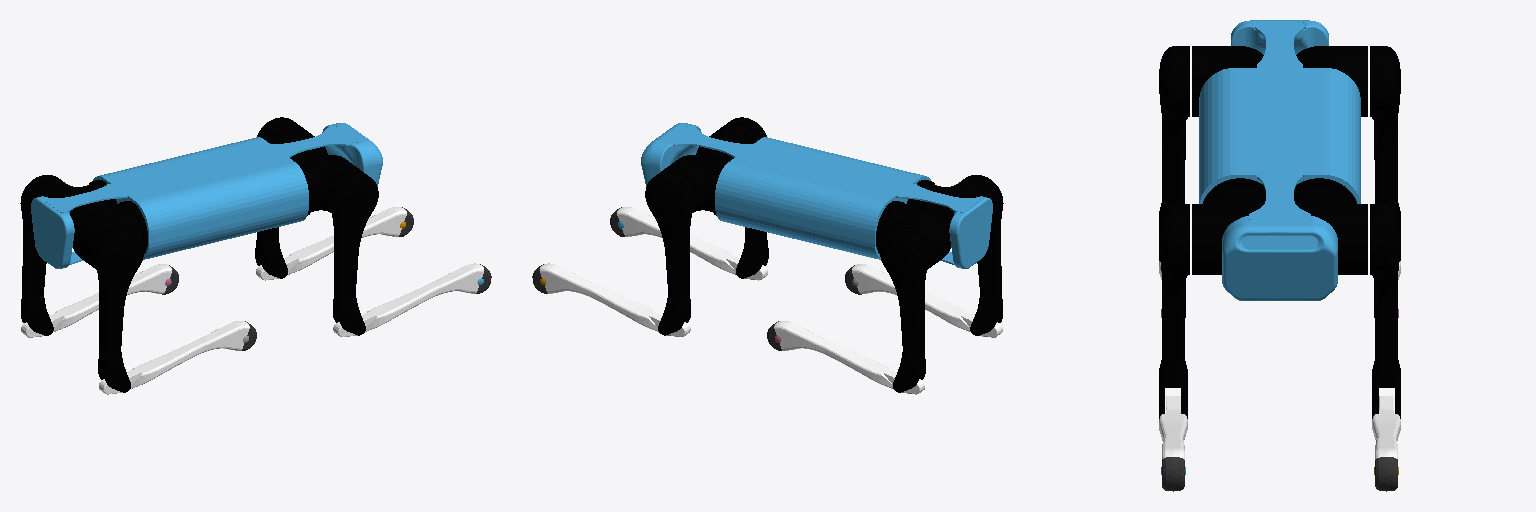
robot.urdf — aliengo:
<?xml version="1.0" ?>
<!-- =================================================================================== -->
<!-- |    This document was autogenerated by xacro from robot.xacro                    | -->
<!-- |    EDITING THIS FILE BY HAND IS NOT RECOMMENDED                                 | -->
<!-- =================================================================================== -->
<robot name="aliengo">
  <material name="black">
    <color rgba="0.0 0.0 0.0 1.0"/>
  </material>
  <material name="blue">
    <color rgba="0.0 0.0 0.8 1.0"/>
  </material>
  <material name="green">
    <color rgba="0.0 0.8 0.0 1.0"/>
  </material>
  <material name="grey">
    <color rgba="0.2 0.2 0.2 1.0"/>
  </material>
  <material name="silver">
    <color rgba="0.9137254901960784 0.9137254901960784 0.8470588235294118 1.0"/>
  </material>
  <material name="orange">
    <color rgba="1.0 0.4235294117647059 0.0392156862745098 1.0"/>
  </material>
  <material name="brown">
    <color rgba="0.8705882352941177 0.8117647058823529 0.7647058823529411 1.0"/>
  </material>
  <material name="red">
    <color rgba="0.8 0.0 0.0 1.0"/>
  </material>
  <material name="white">
    <color rgba="1.0 1.0 1.0 1.0"/>
  </material>

  <link name="base">
    <visual>
      <origin rpy="0 0 0" xyz="0 0 0"/>
      <geometry>
        <box size="0.001 0.001 0.001"/>
      </geometry>
    </visual>
  </link>
  <joint name="floating_base" type="fixed">
    <origin rpy="0 0 0" xyz="0 0 0"/>
    <parent link="base"/>
    <child link="trunk"/>
  </joint>
  <link name="trunk">
    <visual>
      <origin rpy="0 0 0" xyz="0 0 0"/>
      <geometry>
        <mesh filename="assets/trunk.dae" scale="1 1 1"/>
      </geometry>
    </visual>
    <collision>
      <origin rpy="0 0 0" xyz="0 0 0"/>
      <geometry>
        <box size="0.647 0.15 0.112"/>
      </geometry>
    </collision>
    <inertial>
      <origin rpy="0 0 0" xyz="0.008811 0.003839 0.000273"/>
      <mass value="11.644"/>
      <inertia ixx="0.051944892" ixy="0.001703617" ixz="0.000235941" iyy="0.24693924" iyz="0.000119783" izz="0.270948307"/>
    </inertial>
  </link>
  <joint name="imu_joint" type="fixed">
    <parent link="trunk"/>
    <child link="imu_link"/>
    <origin rpy="0 0 0" xyz="0 0 0"/>
  </joint>
  <link name="imu_link">
    <inertial>
      <mass value="0.001"/>
      <origin rpy="0 0 0" xyz="0 0 0"/>
      <inertia ixx="0.0001" ixy="0" ixz="0" iyy="0.000001" iyz="0" izz="0.0001"/>
    </inertial>
    <visual>
      <origin rpy="0 0 0" xyz="0 0 0"/>
      <geometry>
        <box size="0.001 0.001 0.001"/>
      </geometry>
      <material name="red"/>
    </visual>
    <collision>
      <origin rpy="0 0 0" xyz="0 0 0"/>
      <geometry>
        <box size=".001 .001 .001"/>
      </geometry>
    </collision>
  </link>
  <joint name="FR_hip_joint" type="revolute">
    <origin rpy="0 0 0" xyz="0.2407 -0.051 0"/>
    <parent link="trunk"/>
    <child link="FR_hip"/>
    <axis xyz="1 0 0"/>
    <limit effort="35.278" lower="-1.2217304763960306" upper="1.2217304763960306" velocity="20"/>
  </joint>
  <joint name="FR_hip_rotor_joint" type="fixed">
    <origin rpy="0 0 0" xyz="0.139985 -0.051 0"/>
    <parent link="trunk"/>
    <child link="FR_hip_rotor"/>
  </joint>
  <link name="FR_hip">
    <visual>
      <origin rpy="3.141592653589793 0 0" xyz="0 0 0"/>
      <geometry>
        <mesh filename="assets/hip.dae" scale="1 1 1"/>
      </geometry>
    </visual>
    <inertial>
      <origin rpy="0 0 0" xyz="-0.022191 -0.015144 -1.5e-05"/>
      <mass value="1.993"/>
      <inertia ixx="0.002446735" ixy="0.00059805" ixz="1.945e-06" iyy="0.003925876" iyz="-1.284e-06" izz="0.004148145"/>
    </inertial>
  </link>
  <link name="FR_hip_rotor">
    <inertial>
      <origin rpy="0 0 0" xyz="0.0 0.0 0.0"/>
      <mass value="0.146"/>
      <inertia ixx="0.000138702" ixy="0.0" ixz="0.0" iyy="8.3352e-05" iyz="0.0" izz="8.3352e-05"/>
    </inertial>
  </link>
  <joint name="FR_thigh_joint" type="continuous">
    <origin rpy="0 0 0" xyz="0 -0.0868 0"/>
    <parent link="FR_hip"/>
    <child link="FR_thigh"/>
    <axis xyz="0 1 0"/>
    <limit effort="35.278" velocity="20"/>
  </joint>
  <joint name="FR_thigh_rotor_joint" type="fixed">
    <origin rpy="0 0 0" xyz="0.0 -0.0298 0"/>
    <parent link="FR_hip"/>
    <child link="FR_thigh_rotor"/>
  </joint>
  <link name="FR_thigh">
    <visual>
      <origin rpy="0 0 0" xyz="0 0 0"/>
      <geometry>
        <mesh filename="assets/thigh_mirror.dae" scale="1 1 1"/>
      </geometry>
    </visual>
    <collision>
      <origin rpy="0 1.5707963267948966 0" xyz="0 0 -0.125"/>
      <geometry>
        <box size="0.15 0.0374 0.043"/>
      </geometry>
    </collision>
    <inertial>
      <origin rpy="0 0 0" xyz="-0.005607 0.003877 -0.048199"/>
      <mass value="0.639"/>
      <inertia ixx="0.004173855" ixy="-1.0284e-05" ixz="-0.000318874" iyy="0.004343802" iyz="-0.000109233" izz="0.000340136"/>
    </inertial>
  </link>
  <link name="FR_thigh_rotor">
    <inertial>
      <origin rpy="0 0 0" xyz="0.0 0.0 0.0"/>
      <mass value="0.146"/>
      <inertia ixx="8.3352e-05" ixy="0.0" ixz="0.0" iyy="0.000138702" iyz="0.0" izz="8.3352e-05"/>
    </inertial>
  </link>
  <joint name="FR_calf_joint" type="revolute">
    <origin rpy="0 0 0" xyz="0 0 -0.25"/>
    <parent link="FR_thigh"/>
    <child link="FR_calf"/>
    <axis xyz="0 1 0"/>
    <limit effort="44.4" lower="-2.775073510670984" upper="-0.6457718232379019" velocity="15.89"/>
  </joint>
  <joint name="FR_calf_rotor_joint" type="fixed">
    <origin rpy="0 0 0" xyz="0.0 0.0997 0"/>
    <parent link="FR_thigh"/>
    <child link="FR_calf_rotor"/>
  </joint>
  <link name="FR_calf">
    <visual>
      <origin rpy="0 0 0" xyz="0 0 0"/>
      <geometry>
        <mesh filename="assets/calf.dae" scale="1 1 1"/>
      </geometry>
    </visual>
    <collision>
      <origin rpy="0 1.5707963267948966 0" xyz="0 0 -0.125"/>
      <geometry>
        <box size="0.15 0.0208 0.016"/>
      </geometry>
    </collision>
    <inertial>
      <origin rpy="0 0 0" xyz="0.002781 6.3e-05 -0.142518"/>
      <mass value="0.207"/>
      <inertia ixx="0.002129279" ixy="3.9e-08" ixz="5.757e-06" iyy="0.002141463" iyz="-5.16e-07" izz="3.7583e-05"/>
    </inertial>
  </link>
  <link name="FR_calf_rotor">
    <inertial>
      <origin rpy="0 0 0" xyz="0.0 0.0 0.0"/>
      <mass value="0.132"/>
      <inertia ixx="0.000145463" ixy="0.0" ixz="0.0" iyy="0.000133031" iyz="0.0" izz="0.000145463"/>
    </inertial>
  </link>
  <joint name="FR_foot_fixed" type="fixed">
    <origin rpy="0 0 0" xyz="0 0 -0.25"/>
    <parent link="FR_calf"/>
    <child link="FR_foot"/>
  </joint>
  <link name="FR_foot">
    <visual>
      <origin rpy="0 0 0" xyz="0 0 0"/>
      <geometry>
        <sphere radius="0.0165"/>
      </geometry>
    </visual>
    <collision>
      <origin rpy="0 0 0" xyz="0 0 0"/>
      <geometry>
        <sphere radius="0.0265"/>
      </geometry>
    </collision>
    <inertial>
      <mass value="0.06"/>
      <inertia ixx="1.6853999999999998e-05" ixy="0.0" ixz="0.0" iyy="1.6853999999999998e-05" iyz="0.0" izz="1.6853999999999998e-05"/>
    </inertial>
  </link>
  <joint name="FL_hip_joint" type="revolute">
    <origin rpy="0 0 0" xyz="0.2407 0.051 0"/>
    <parent link="trunk"/>
    <child link="FL_hip"/>
    <axis xyz="1 0 0"/>
    <limit effort="35.278" lower="-1.2217304763960306" upper="1.2217304763960306" velocity="20"/>
  </joint>
  <joint name="FL_hip_rotor_joint" type="fixed">
    <origin rpy="0 0 0" xyz="0.139985 0.051 0"/>
    <parent link="trunk"/>
    <child link="FL_hip_rotor"/>
  </joint>
  <link name="FL_hip">
    <visual>
      <origin rpy="0 0 0" xyz="0 0 0"/>
      <geometry>
        <mesh filename="assets/hip.dae" scale="1 1 1"/>
      </geometry>
    </visual>
    <inertial>
      <origin rpy="0 0 0" xyz="-0.022191 0.015144 -1.5e-05"/>
      <mass value="1.993"/>
      <inertia ixx="0.002446735" ixy="-0.00059805" ixz="1.945e-06" iyy="0.003925876" iyz="1.284e-06" izz="0.004148145"/>
    </inertial>
  </link>
  <link name="FL_hip_rotor">
    <inertial>
      <origin rpy="0 0 0" xyz="0.0 0.0 0.0"/>
      <mass value="0.146"/>
      <inertia ixx="0.000138702" ixy="0.0" ixz="0.0" iyy="8.3352e-05" iyz="0.0" izz="8.3352e-05"/>
    </inertial>
  </link>
  <joint name="FL_thigh_joint" type="continuous">
    <origin rpy="0 0 0" xyz="0 0.0868 0"/>
    <parent link="FL_hip"/>
    <child link="FL_thigh"/>
    <axis xyz="0 1 0"/>
    <limit effort="35.278" velocity="20"/>
  </joint>
  <joint name="FL_thigh_rotor_joint" type="fixed">
    <origin rpy="0 0 0" xyz="0.0 0.0298 0"/>
    <parent link="FL_hip"/>
    <child link="FL_thigh_rotor"/>
  </joint>
  <link name="FL_thigh">
    <visual>
      <origin rpy="0 0 0" xyz="0 0 0"/>
      <geometry>
        <mesh filename="assets/thigh.dae" scale="1 1 1"/>
      </geometry>
    </visual>
    <collision>
      <origin rpy="0 1.5707963267948966 0" xyz="0 0 -0.125"/>
      <geometry>
        <box size="0.15 0.0374 0.043"/>
      </geometry>
    </collision>
    <inertial>
      <origin rpy="0 0 0" xyz="-0.005607 -0.003877 -0.048199"/>
      <mass value="0.639"/>
      <inertia ixx="0.004173855" ixy="1.0284e-05" ixz="-0.000318874" iyy="0.004343802" iyz="0.000109233" izz="0.000340136"/>
    </inertial>
  </link>
  <link name="FL_thigh_rotor">
    <inertial>
      <origin rpy="0 0 0" xyz="0.0 0.0 0.0"/>
      <mass value="0.146"/>
      <inertia ixx="8.3352e-05" ixy="0.0" ixz="0.0" iyy="0.000138702" iyz="0.0" izz="8.3352e-05"/>
    </inertial>
  </link>
  <joint name="FL_calf_joint" type="revolute">
    <origin rpy="0 0 0" xyz="0 0 -0.25"/>
    <parent link="FL_thigh"/>
    <child link="FL_calf"/>
    <axis xyz="0 1 0"/>
    <limit effort="44.4" lower="-2.775073510670984" upper="-0.6457718232379019" velocity="15.89"/>
  </joint>
  <joint name="FL_calf_rotor_joint" type="fixed">
    <origin rpy="0 0 0" xyz="0.0 -0.0997 0"/>
    <parent link="FL_thigh"/>
    <child link="FL_calf_rotor"/>
  </joint>
  <link name="FL_calf">
    <visual>
      <origin rpy="0 0 0" xyz="0 0 0"/>
      <geometry>
        <mesh filename="assets/calf.dae" scale="1 1 1"/>
      </geometry>
    </visual>
    <collision>
      <origin rpy="0 1.5707963267948966 0" xyz="0 0 -0.125"/>
      <geometry>
        <box size="0.15 0.0208 0.016"/>
      </geometry>
    </collision>
    <inertial>
      <origin rpy="0 0 0" xyz="0.002781 6.3e-05 -0.142518"/>
      <mass value="0.207"/>
      <inertia ixx="0.002129279" ixy="3.9e-08" ixz="5.757e-06" iyy="0.002141463" iyz="-5.16e-07" izz="3.7583e-05"/>
    </inertial>
  </link>
  <link name="FL_calf_rotor">
    <inertial>
      <origin rpy="0 0 0" xyz="0.0 0.0 0.0"/>
      <mass value="0.132"/>
      <inertia ixx="0.000145463" ixy="0.0" ixz="0.0" iyy="0.000133031" iyz="0.0" izz="0.000145463"/>
    </inertial>
  </link>
  <joint name="FL_foot_fixed" type="fixed">
    <origin rpy="0 0 0" xyz="0 0 -0.25"/>
    <parent link="FL_calf"/>
    <child link="FL_foot"/>
  </joint>
  <link name="FL_foot">
    <visual>
      <origin rpy="0 0 0" xyz="0 0 0"/>
      <geometry>
        <sphere radius="0.0165"/>
      </geometry>
    </visual>
    <collision>
      <origin rpy="0 0 0" xyz="0 0 0"/>
      <geometry>
        <sphere radius="0.0265"/>
      </geometry>
    </collision>
    <inertial>
      <mass value="0.06"/>
      <inertia ixx="1.6853999999999998e-05" ixy="0.0" ixz="0.0" iyy="1.6853999999999998e-05" iyz="0.0" izz="1.6853999999999998e-05"/>
    </inertial>
  </link>
  <joint name="RR_hip_joint" type="revolute">
    <origin rpy="0 0 0" xyz="-0.2407 -0.051 0"/>
    <parent link="trunk"/>
    <child link="RR_hip"/>
    <axis xyz="1 0 0"/>
    <limit effort="35.278" lower="-1.2217304763960306" upper="1.2217304763960306" velocity="20"/>
  </joint>
  <joint name="RR_hip_rotor_joint" type="fixed">
    <origin rpy="0 0 0" xyz="-0.139985 -0.051 0"/>
    <parent link="trunk"/>
    <child link="RR_hip_rotor"/>
  </joint>
  <link name="RR_hip">
    <visual>
      <origin rpy="3.141592653589793 3.141592653589793 0" xyz="0 0 0"/>
      <geometry>
        <mesh filename="assets/hip.dae" scale="1 1 1"/>
      </geometry>
    </visual>
    <inertial>
      <origin rpy="0 0 0" xyz="0.022191 -0.015144 -1.5e-05"/>
      <mass value="1.993"/>
      <inertia ixx="0.002446735" ixy="-0.00059805" ixz="-1.945e-06" iyy="0.003925876" iyz="-1.284e-06" izz="0.004148145"/>
    </inertial>
  </link>
  <link name="RR_hip_rotor">
    <inertial>
      <origin rpy="0 0 0" xyz="0.0 0.0 0.0"/>
      <mass value="0.146"/>
      <inertia ixx="0.000138702" ixy="0.0" ixz="0.0" iyy="8.3352e-05" iyz="0.0" izz="8.3352e-05"/>
    </inertial>
  </link>
  <joint name="RR_thigh_joint" type="continuous">
    <origin rpy="0 0 0" xyz="0 -0.0868 0"/>
    <parent link="RR_hip"/>
    <child link="RR_thigh"/>
    <axis xyz="0 1 0"/>
    <limit effort="35.278" velocity="20"/>
  </joint>
  <joint name="RR_thigh_rotor_joint" type="fixed">
    <origin rpy="0 0 0" xyz="0.0 -0.0298 0"/>
    <parent link="RR_hip"/>
    <child link="RR_thigh_rotor"/>
  </joint>
  <link name="RR_thigh">
    <visual>
      <origin rpy="0 0 0" xyz="0 0 0"/>
      <geometry>
        <mesh filename="assets/thigh_mirror.dae" scale="1 1 1"/>
      </geometry>
    </visual>
    <collision>
      <origin rpy="0 1.5707963267948966 0" xyz="0 0 -0.125"/>
      <geometry>
        <box size="0.25 0.0374 0.043"/>
      </geometry>
    </collision>
    <inertial>
      <origin rpy="0 0 0" xyz="-0.005607 0.003877 -0.048199"/>
      <mass value="0.639"/>
      <inertia ixx="0.004173855" ixy="-1.0284e-05" ixz="-0.000318874" iyy="0.004343802" iyz="-0.000109233" izz="0.000340136"/>
    </inertial>
  </link>
  <link name="RR_thigh_rotor">
    <inertial>
      <origin rpy="0 0 0" xyz="0.0 0.0 0.0"/>
      <mass value="0.146"/>
      <inertia ixx="8.3352e-05" ixy="0.0" ixz="0.0" iyy="0.000138702" iyz="0.0" izz="8.3352e-05"/>
    </inertial>
  </link>
  <joint name="RR_calf_joint" type="revolute">
    <origin rpy="0 0 0" xyz="0 0 -0.25"/>
    <parent link="RR_thigh"/>
    <child link="RR_calf"/>
    <axis xyz="0 1 0"/>
    <dynamics damping="0" friction="0"/>
    <limit effort="44.4" lower="-2.775073510670984" upper="-0.6457718232379019" velocity="15.89"/>
  </joint>
  <joint name="RR_calf_rotor_joint" type="fixed">
    <origin rpy="0 0 0" xyz="0.0 0.0997 0"/>
    <parent link="RR_thigh"/>
    <child link="RR_calf_rotor"/>
  </joint>
  <link name="RR_calf">
    <visual>
      <origin rpy="0 0 0" xyz="0 0 0"/>
      <geometry>
        <mesh filename="assets/calf.dae" scale="1 1 1"/>
      </geometry>
    </visual>
    <collision>
      <origin rpy="0 1.5707963267948966 0" xyz="0 0 -0.125"/>
      <geometry>
        <box size="0.15 0.0208 0.016"/>
      </geometry>
    </collision>
    <inertial>
      <origin rpy="0 0 0" xyz="0.002781 6.3e-05 -0.142518"/>
      <mass value="0.207"/>
      <inertia ixx="0.002129279" ixy="3.9e-08" ixz="5.757e-06" iyy="0.002141463" iyz="-5.16e-07" izz="3.7583e-05"/>
    </inertial>
  </link>
  <link name="RR_calf_rotor">
    <inertial>
      <origin rpy="0 0 0" xyz="0.0 0.0 0.0"/>
      <mass value="0.132"/>
      <inertia ixx="0.000145463" ixy="0.0" ixz="0.0" iyy="0.000133031" iyz="0.0" izz="0.000145463"/>
    </inertial>
  </link>
  <joint name="RR_foot_fixed" type="fixed">
    <origin rpy="0 0 0" xyz="0 0 -0.25"/>
    <parent link="RR_calf"/>
    <child link="RR_foot"/>
  </joint>
  <link name="RR_foot">
    <visual>
      <origin rpy="0 0 0" xyz="0 0 0"/>
      <geometry>
        <sphere radius="0.0165"/>
      </geometry>
    </visual>
    <collision>
      <origin rpy="0 0 0" xyz="0 0 0"/>
      <geometry>
        <sphere radius="0.0265"/>
      </geometry>
    </collision>
    <inertial>
      <mass value="0.06"/>
      <inertia ixx="1.6853999999999998e-05" ixy="0.0" ixz="0.0" iyy="1.6853999999999998e-05" iyz="0.0" izz="1.6853999999999998e-05"/>
    </inertial>
  </link>
  <joint name="RL_hip_joint" type="revolute">
    <origin rpy="0 0 0" xyz="-0.2407 0.051 0"/>
    <parent link="trunk"/>
    <child link="RL_hip"/>
    <axis xyz="1 0 0"/>
    <limit effort="35.278" lower="-1.2217304763960306" upper="1.2217304763960306" velocity="20"/>
  </joint>
  <joint name="RL_hip_rotor_joint" type="fixed">
    <origin rpy="0 0 0" xyz="-0.139985 0.051 0"/>
    <parent link="trunk"/>
    <child link="RL_hip_rotor"/>
  </joint>
  <link name="RL_hip">
    <visual>
      <origin rpy="0 3.141592653589793 0" xyz="0 0 0"/>
      <geometry>
        <mesh filename="assets/hip.dae" scale="1 1 1"/>
      </geometry>
    </visual>
    <inertial>
      <origin rpy="0 0 0" xyz="0.022191 0.015144 -1.5e-05"/>
      <mass value="1.993"/>
      <inertia ixx="0.002446735" ixy="0.00059805" ixz="-1.945e-06" iyy="0.003925876" iyz="1.284e-06" izz="0.004148145"/>
    </inertial>
  </link>
  <link name="RL_hip_rotor">
    <inertial>
      <origin rpy="0 0 0" xyz="0.0 0.0 0.0"/>
      <mass value="0.146"/>
      <inertia ixx="0.000138702" ixy="0.0" ixz="0.0" iyy="8.3352e-05" iyz="0.0" izz="8.3352e-05"/>
    </inertial>
  </link>
  <joint name="RL_thigh_joint" type="continuous">
    <origin rpy="0 0 0" xyz="0 0.0868 0"/>
    <parent link="RL_hip"/>
    <child link="RL_thigh"/>
    <axis xyz="0 1 0"/>
    <limit effort="35.278" velocity="20"/>
  </joint>
  <joint name="RL_thigh_rotor_joint" type="fixed">
    <origin rpy="0 0 0" xyz="0.0 0.0298 0"/>
    <parent link="RL_hip"/>
    <child link="RL_thigh_rotor"/>
  </joint>
  <link name="RL_thigh">
    <visual>
      <origin rpy="0 0 0" xyz="0 0 0"/>
      <geometry>
        <mesh filename="assets/thigh.dae" scale="1 1 1"/>
      </geometry>
    </visual>
    <collision>
      <origin rpy="0 1.5707963267948966 0" xyz="0 0 -0.125"/>
      <geometry>
        <box size="0.25 0.0374 0.043"/>
      </geometry>
    </collision>
    <inertial>
      <origin rpy="0 0 0" xyz="-0.005607 -0.003877 -0.048199"/>
      <mass value="0.639"/>
      <inertia ixx="0.004173855" ixy="1.0284e-05" ixz="-0.000318874" iyy="0.004343802" iyz="0.000109233" izz="0.000340136"/>
    </inertial>
  </link>
  <link name="RL_thigh_rotor">
    <inertial>
      <origin rpy="0 0 0" xyz="0.0 0.0 0.0"/>
      <mass value="0.146"/>
      <inertia ixx="8.3352e-05" ixy="0.0" ixz="0.0" iyy="0.000138702" iyz="0.0" izz="8.3352e-05"/>
    </inertial>
  </link>
  <joint name="RL_calf_joint" type="revolute">
    <origin rpy="0 0 0" xyz="0 0 -0.25"/>
    <parent link="RL_thigh"/>
    <child link="RL_calf"/>
    <axis xyz="0 1 0"/>
    <limit effort="44.4" lower="-2.775073510670984" upper="-0.6457718232379019" velocity="15.89"/>
  </joint>
  <joint name="RL_calf_rotor_joint" type="fixed">
    <origin rpy="0 0 0" xyz="0.0 -0.0997 0"/>
    <parent link="RL_thigh"/>
    <child link="RL_calf_rotor"/>
  </joint>
  <link name="RL_calf">
    <visual>
      <origin rpy="0 0 0" xyz="0 0 0"/>
      <geometry>
        <mesh filename="assets/calf.dae" scale="1 1 1"/>
      </geometry>
    </visual>
    <collision>
      <origin rpy="0 1.5707963267948966 0" xyz="0 0 -0.125"/>
      <geometry>
        <box size="0.15 0.0208 0.016"/>
      </geometry>
    </collision>
    <inertial>
      <origin rpy="0 0 0" xyz="0.002781 6.3e-05 -0.142518"/>
      <mass value="0.207"/>
      <inertia ixx="0.002129279" ixy="3.9e-08" ixz="5.757e-06" iyy="0.002141463" iyz="-5.16e-07" izz="3.7583e-05"/>
    </inertial>
  </link>
  <link name="RL_calf_rotor">
    <inertial>
      <origin rpy="0 0 0" xyz="0.0 0.0 0.0"/>
      <mass value="0.132"/>
      <inertia ixx="0.000145463" ixy="0.0" ixz="0.0" iyy="0.000133031" iyz="0.0" izz="0.000145463"/>
    </inertial>
  </link>
  <joint name="RL_foot_fixed" type="fixed">
    <origin rpy="0 0 0" xyz="0 0 -0.25"/>
    <parent link="RL_calf"/>
    <child link="RL_foot"/>
  </joint>
  <link name="RL_foot">
    <visual>
      <origin rpy="0 0 0" xyz="0 0 0"/>
      <geometry>
        <sphere radius="0.0165"/>
      </geometry>
    </visual>
    <collision>
      <origin rpy="0 0 0" xyz="0 0 0"/>
      <geometry>
        <sphere radius="0.0265"/>
      </geometry>
    </collision>
    <inertial>
      <mass value="0.06"/>
      <inertia ixx="1.6853999999999998e-05" ixy="0.0" ixz="0.0" iyy="1.6853999999999998e-05" iyz="0.0" izz="1.6853999999999998e-05"/>
    </inertial>
  </link>
</robot>

--- Facts derived from the render (not from the file) ---
The picture shows the robot from 3 angles, left to right: view 1: azimuth 30°, elevation 25°; view 2: azimuth 150°, elevation 25°; view 3: azimuth 270°, elevation 25°; orthographic projection.
Robot: aliengo — 31 links, 30 joints (8 revolute, 4 continuous, 18 fixed); root link base; default pose: all joints at 0 but 4 set to mid-range because 0 is outside their limits (FR_calf_joint = -1.71, FL_calf_joint = -1.71, RR_calf_joint = -1.71, RL_calf_joint = -1.71).
Links seen in each view (by area): view 1: trunk, RR_thigh, FR_thigh, RL_thigh, FR_calf, RR_calf, RR_hip, FL_calf, RL_calf, FR_hip, FL_thigh, RL_hip (+1 smaller); view 2: trunk, RL_thigh, FL_thigh, RR_thigh, FL_calf, RL_calf, RL_hip, FR_calf, RR_calf, FL_hip, FR_thigh, RR_hip (+1 smaller); view 3: trunk, FR_thigh, FL_thigh, RR_thigh, RL_thigh, FR_hip, FL_hip, FR_calf, FL_calf, RR_hip, RL_hip.
Boxes of the visible links, x1=… form: trunk: x1=31, y1=123, x2=382, y2=268; RR_thigh: x1=93, y1=227, x2=143, y2=392; FR_thigh: x1=327, y1=170, x2=378, y2=335; RL_thigh: x1=20, y1=175, x2=61, y2=335; FR_calf: x1=333, y1=263, x2=491, y2=336; RR_calf: x1=99, y1=321, x2=256, y2=394; RR_hip: x1=73, y1=201, x2=147, y2=269; FL_calf: x1=256, y1=207, x2=413, y2=280; RL_calf: x1=21, y1=264, x2=178, y2=337; FR_hip: x1=293, y1=155, x2=362, y2=215; FL_thigh: x1=255, y1=117, x2=296, y2=278; RL_hip: x1=28, y1=180, x2=117, y2=224; trunk: x1=641, y1=123, x2=992, y2=268; RL_thigh: x1=880, y1=227, x2=930, y2=392; FL_thigh: x1=645, y1=170, x2=696, y2=335; RR_thigh: x1=962, y1=175, x2=1003, y2=335; FL_calf: x1=532, y1=263, x2=690, y2=336; RL_calf: x1=767, y1=321, x2=924, y2=394; RL_hip: x1=876, y1=201, x2=950, y2=269; FR_calf: x1=610, y1=207, x2=767, y2=280; RR_calf: x1=845, y1=264, x2=1002, y2=337; FL_hip: x1=661, y1=155, x2=730, y2=215; FR_thigh: x1=727, y1=117, x2=768, y2=278; RR_hip: x1=906, y1=180, x2=995, y2=224; trunk: x1=1199, y1=20, x2=1360, y2=300; FR_thigh: x1=1159, y1=204, x2=1189, y2=418; FL_thigh: x1=1370, y1=204, x2=1400, y2=418; RR_thigh: x1=1159, y1=46, x2=1189, y2=260; RL_thigh: x1=1370, y1=46, x2=1400, y2=260; FR_hip: x1=1192, y1=178, x2=1265, y2=274; FL_hip: x1=1294, y1=178, x2=1367, y2=274; FR_calf: x1=1159, y1=396, x2=1187, y2=491; FL_calf: x1=1372, y1=396, x2=1400, y2=491; RR_hip: x1=1192, y1=46, x2=1263, y2=116; RL_hip: x1=1296, y1=46, x2=1367, y2=116.
Bounding box of the posed robot: 0.8255 × 0.313 × 0.321 m (x, y, z).
Meshes: 5 distinct files referenced, 13 mesh visuals loaded (5 Collada DAE).